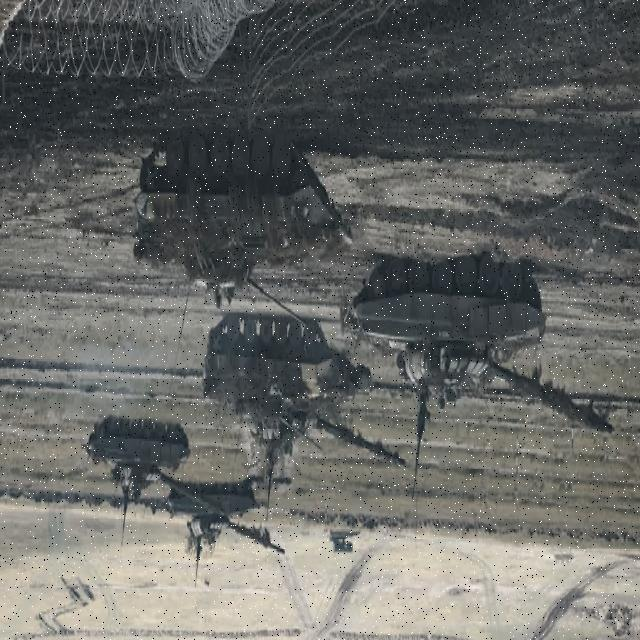APC-IFV: (132, 123, 354, 324), (202, 314, 342, 454)
TANK: (354, 243, 616, 442), (208, 316, 406, 476), (86, 414, 226, 518), (164, 479, 286, 559)
